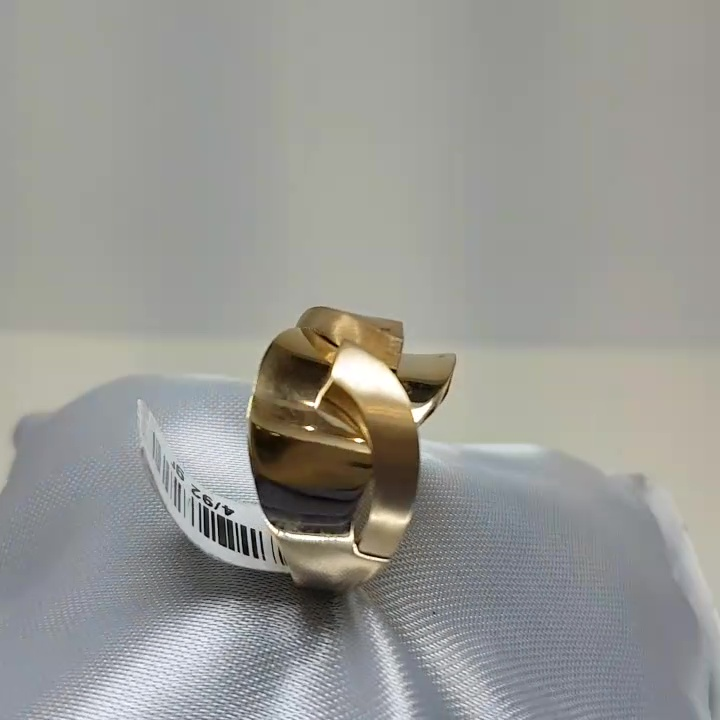Ring 4: (219, 282, 471, 621)
